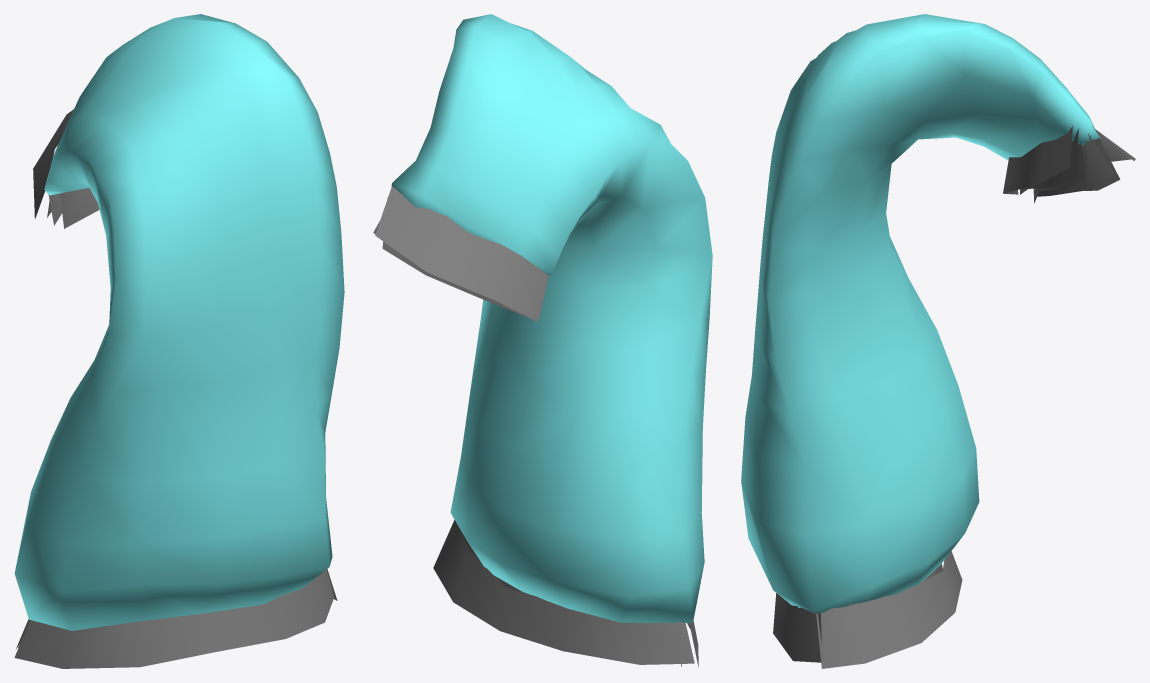
The model's file is FluffyPillow.fbx.
The picture shows the model from 3 angles, left to right: view 1: azimuth 30°, elevation 25°; view 2: azimuth 150°, elevation 25°; view 3: azimuth 270°, elevation 25°; orthographic projection. The views are drawn at different scales.
Parts seen in each view (by area): view 1: Fluffy_pillow; view 2: Fluffy_pillow; view 3: Fluffy_pillow.
Boxes of the visible parts, x1,y1,x2,y2 form: Fluffy_pillow: [14, 14, 344, 668]; Fluffy_pillow: [373, 14, 712, 667]; Fluffy_pillow: [741, 14, 1135, 668].
Size of the model in its own units: 1.95 by 3.8 by 2.17.
